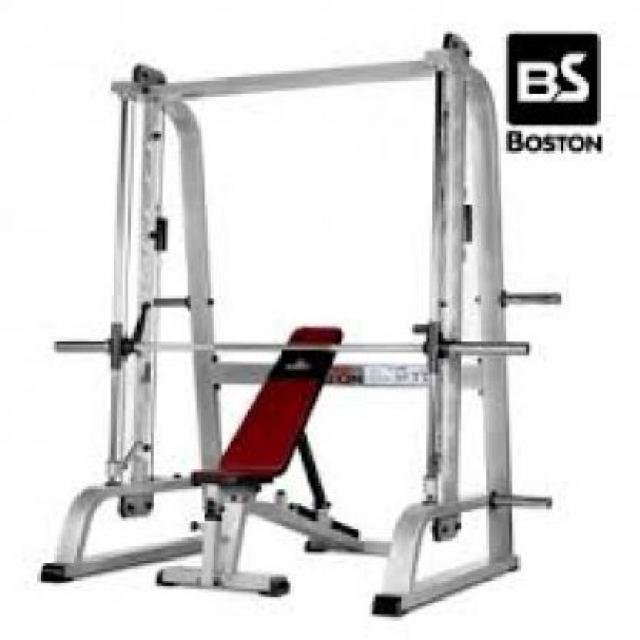smith machine: (38, 31, 504, 629)
